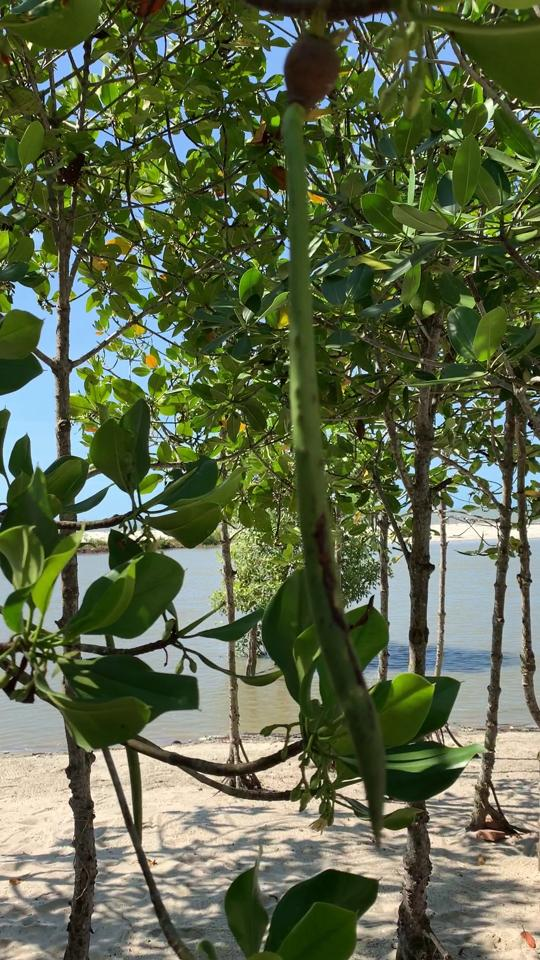setengah matang: (261, 16, 409, 863)
